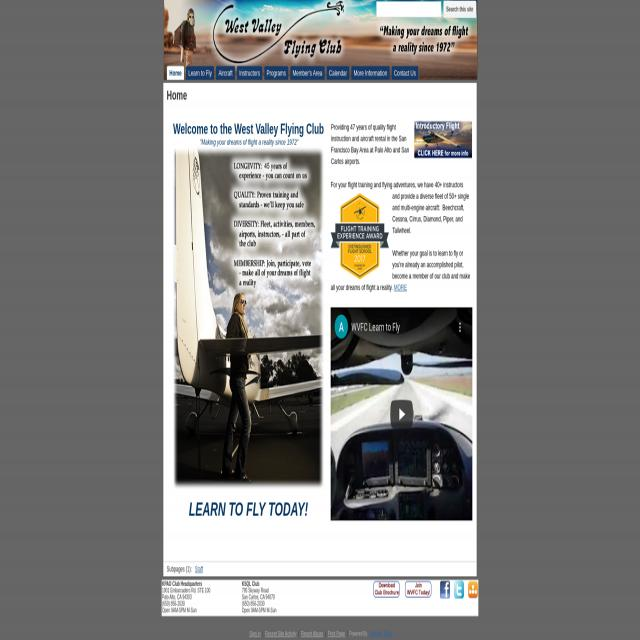button: (174, 156, 324, 479), (330, 307, 472, 521), (331, 194, 389, 279), (414, 121, 472, 158), (390, 400, 412, 429), (444, 1, 476, 18), (373, 580, 400, 598), (352, 66, 389, 79), (290, 66, 324, 80), (186, 65, 214, 82), (405, 580, 431, 598), (392, 66, 418, 80), (237, 66, 263, 79), (264, 66, 288, 80), (327, 66, 349, 81), (334, 315, 348, 338), (216, 66, 235, 79), (167, 66, 183, 80), (440, 580, 450, 598), (454, 580, 464, 598), (468, 580, 478, 598), (456, 320, 464, 336)
field: (376, 1, 442, 18)
